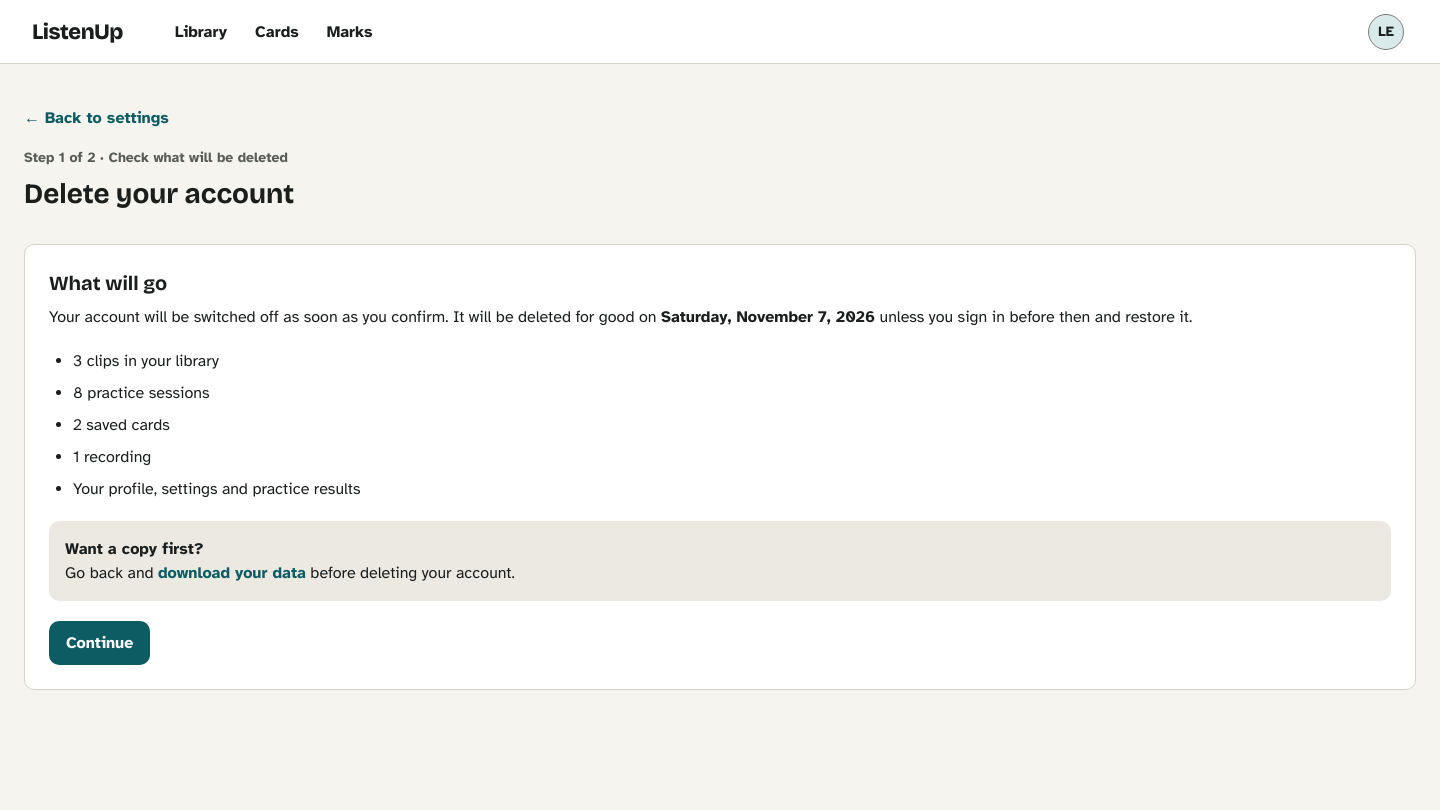
Scenario: deleting signs out and shows until when the account can be restored
Click the button "Continue": (100, 643) [49,621,150,665]
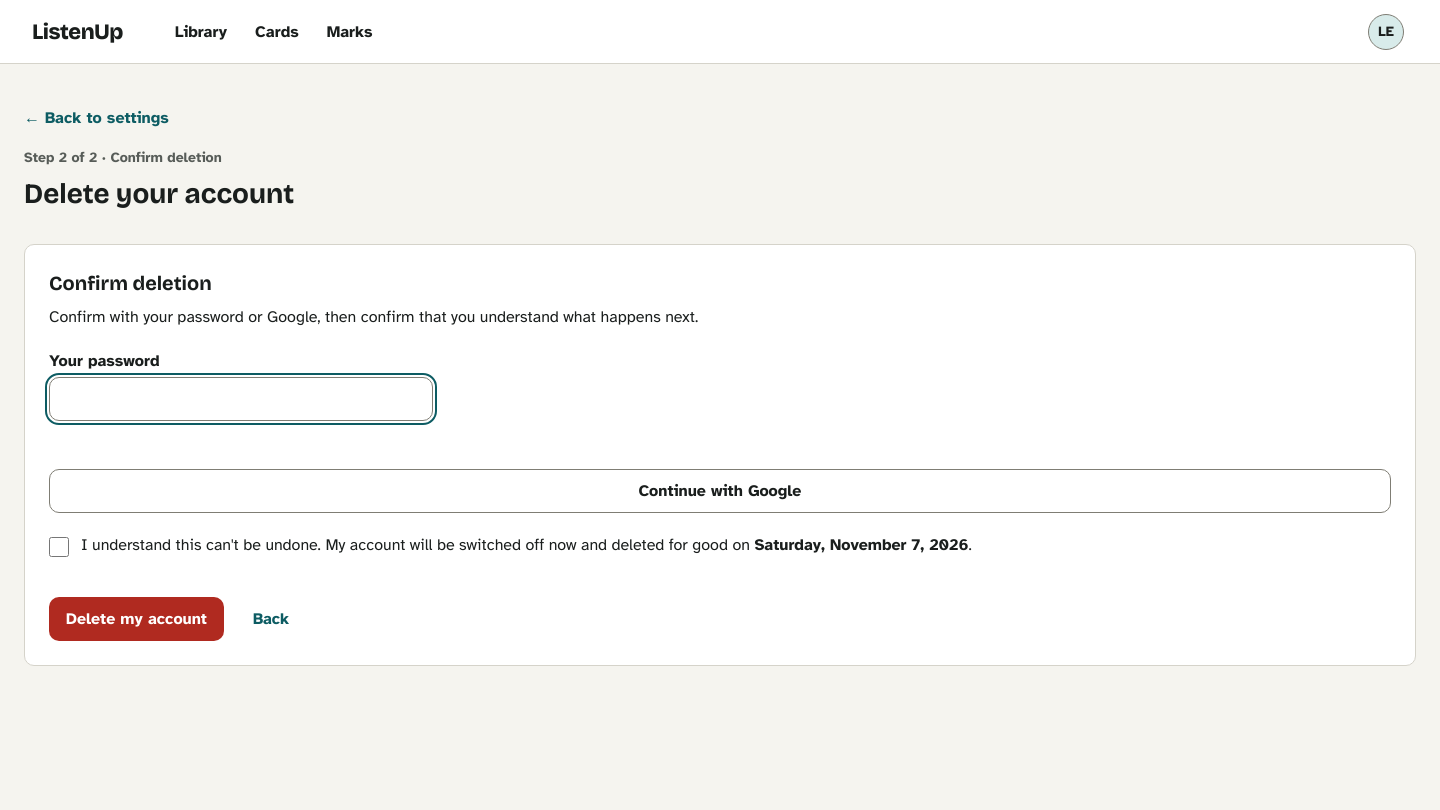
In the password field labelled "Your password": (241, 399) [49,377,433,421], type "correct horse"
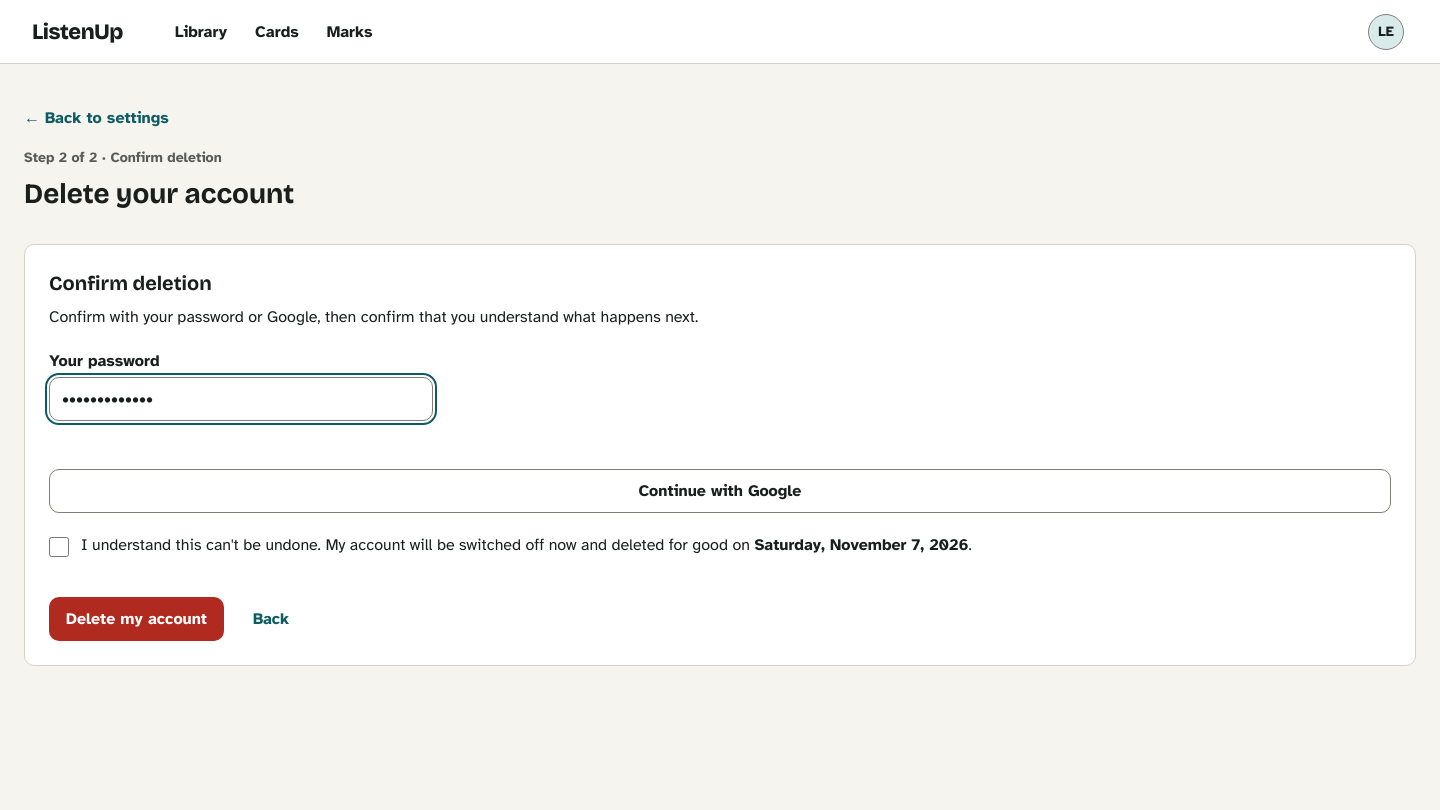
Click the checkbox labelled "I understand this can't be undone": (59, 547) [49,537,69,557]
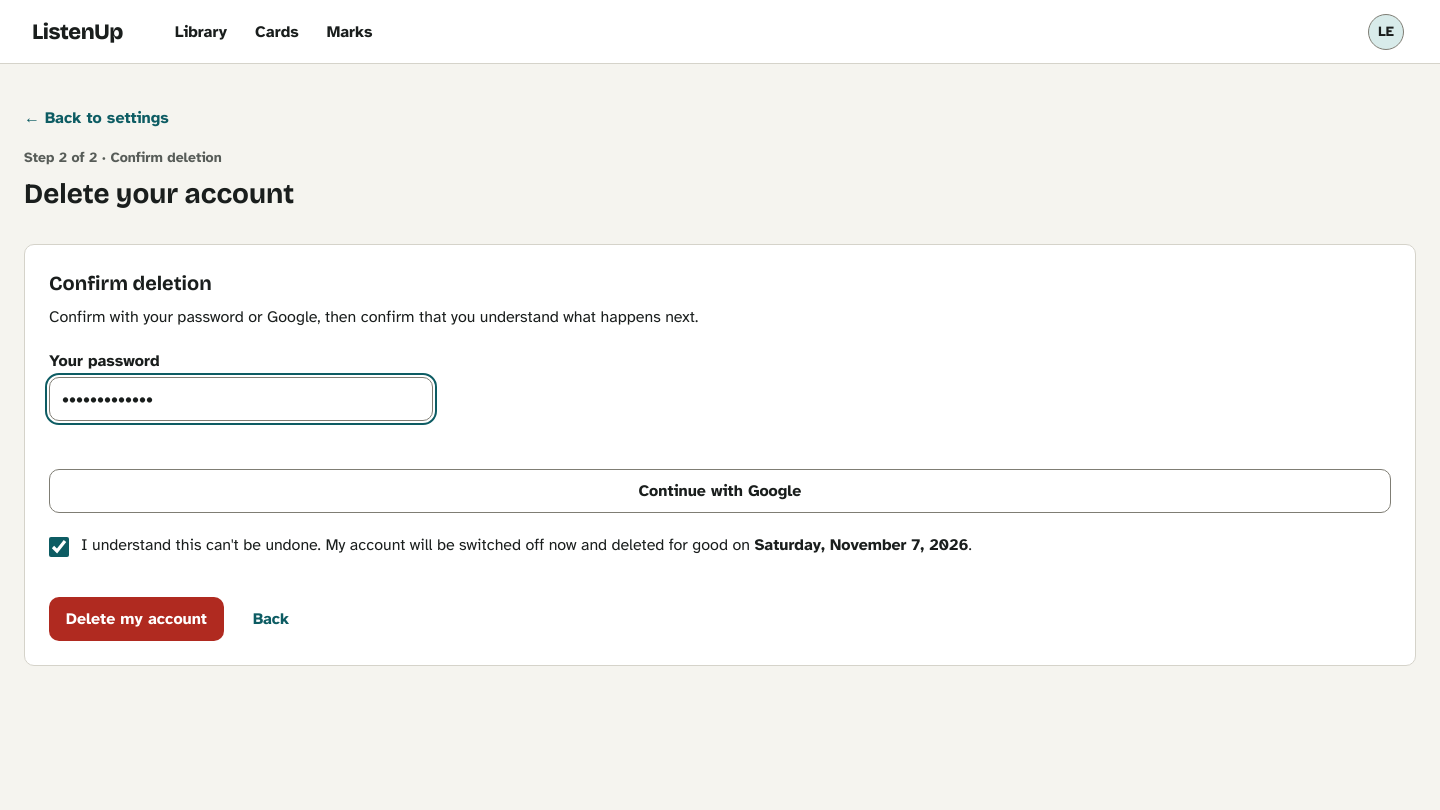
Click the button "Delete my account": (136, 619) [49,597,224,641]
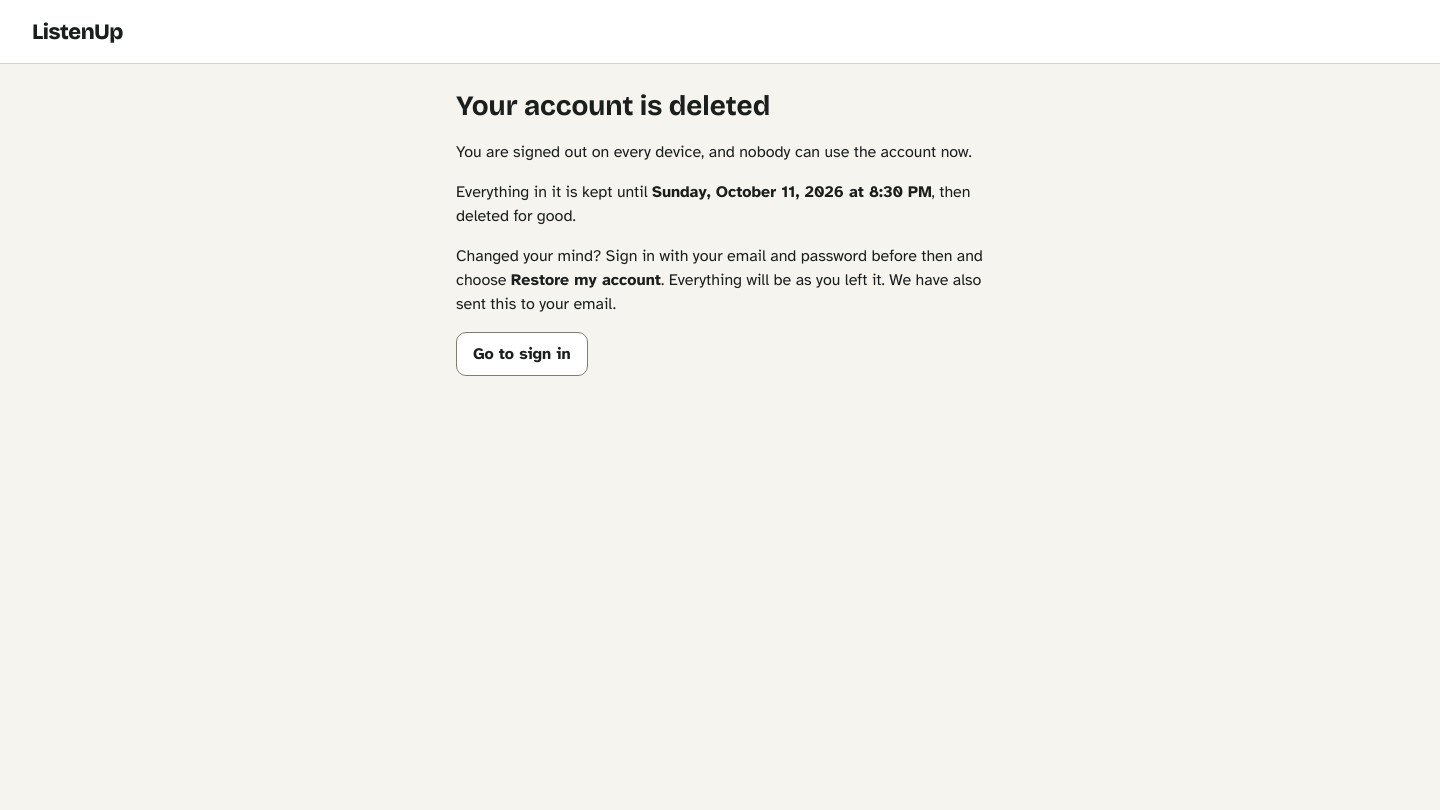
Now the heading "Your account is deleted" is shown, box [456,89,770,123]
Now the link "Go to sign in" is shown, box [456,332,588,376]
